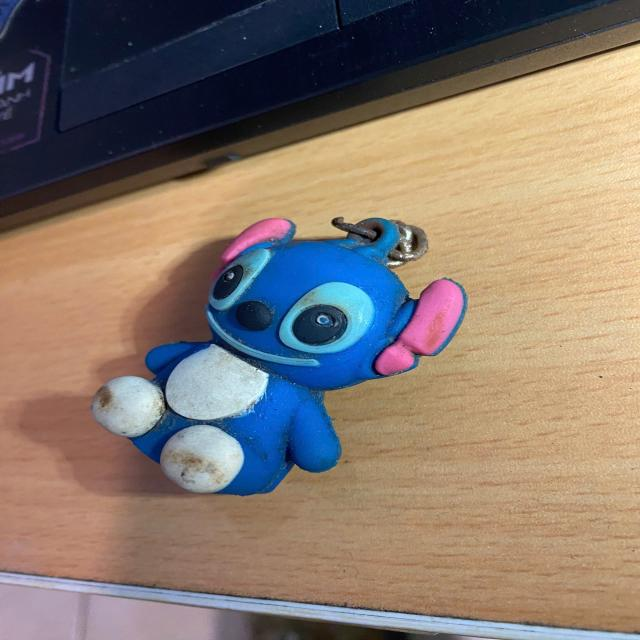stick: (89, 214, 468, 496)
